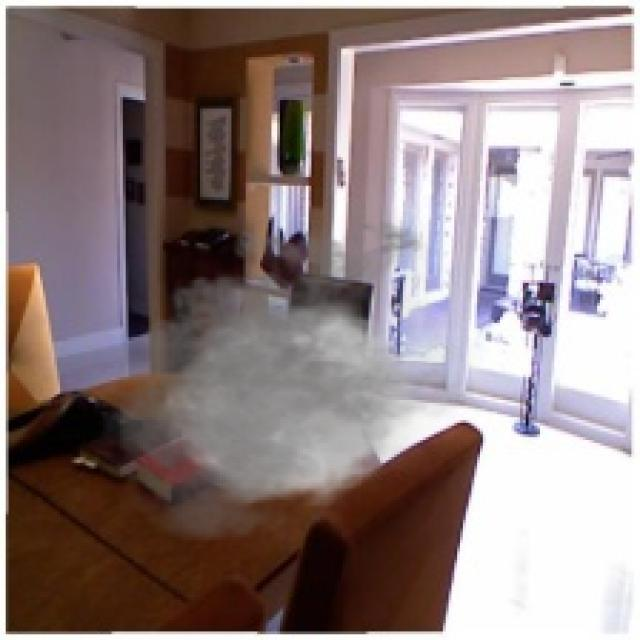smoke: (89, 209, 488, 554)
